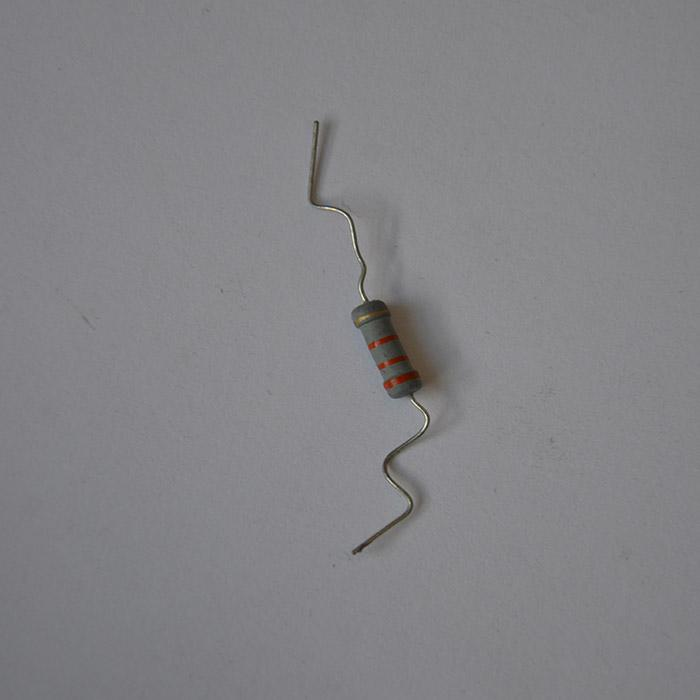resistor: (350, 297, 421, 399)
